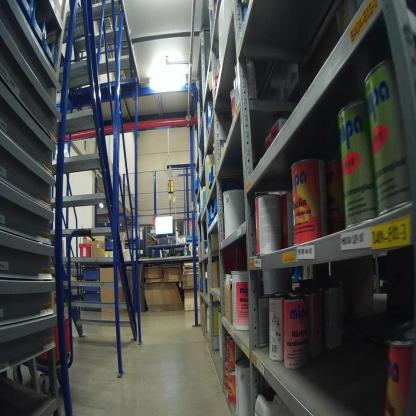small_load_carrier: (21, 310, 72, 380), (77, 240, 91, 265)
